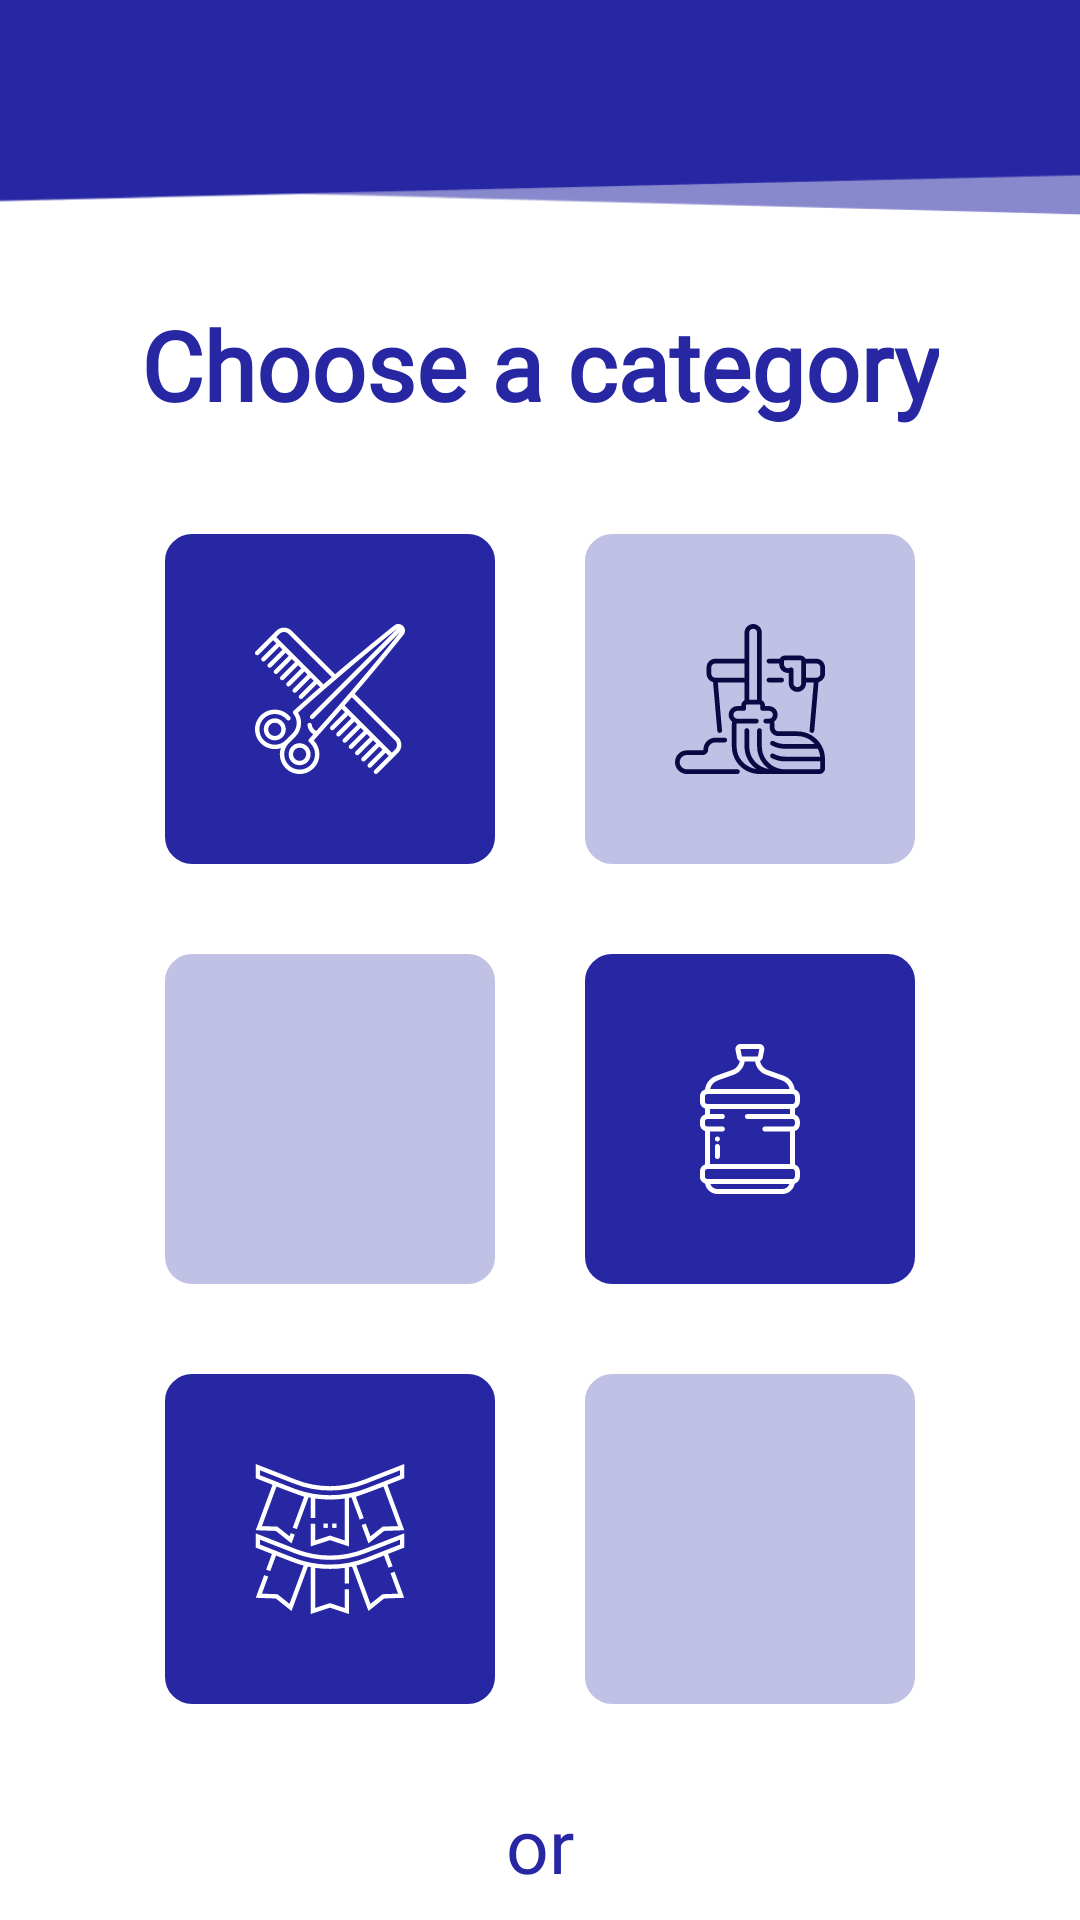

Where icons sit on this 1080px×1920px app screen, as bbox=[x1, y1, x2, y2]:
clean: bbox=[585, 534, 915, 864]
decor: bbox=[165, 1374, 495, 1704]
salon: bbox=[165, 534, 495, 864]
water bottle: bbox=[585, 954, 915, 1284]
